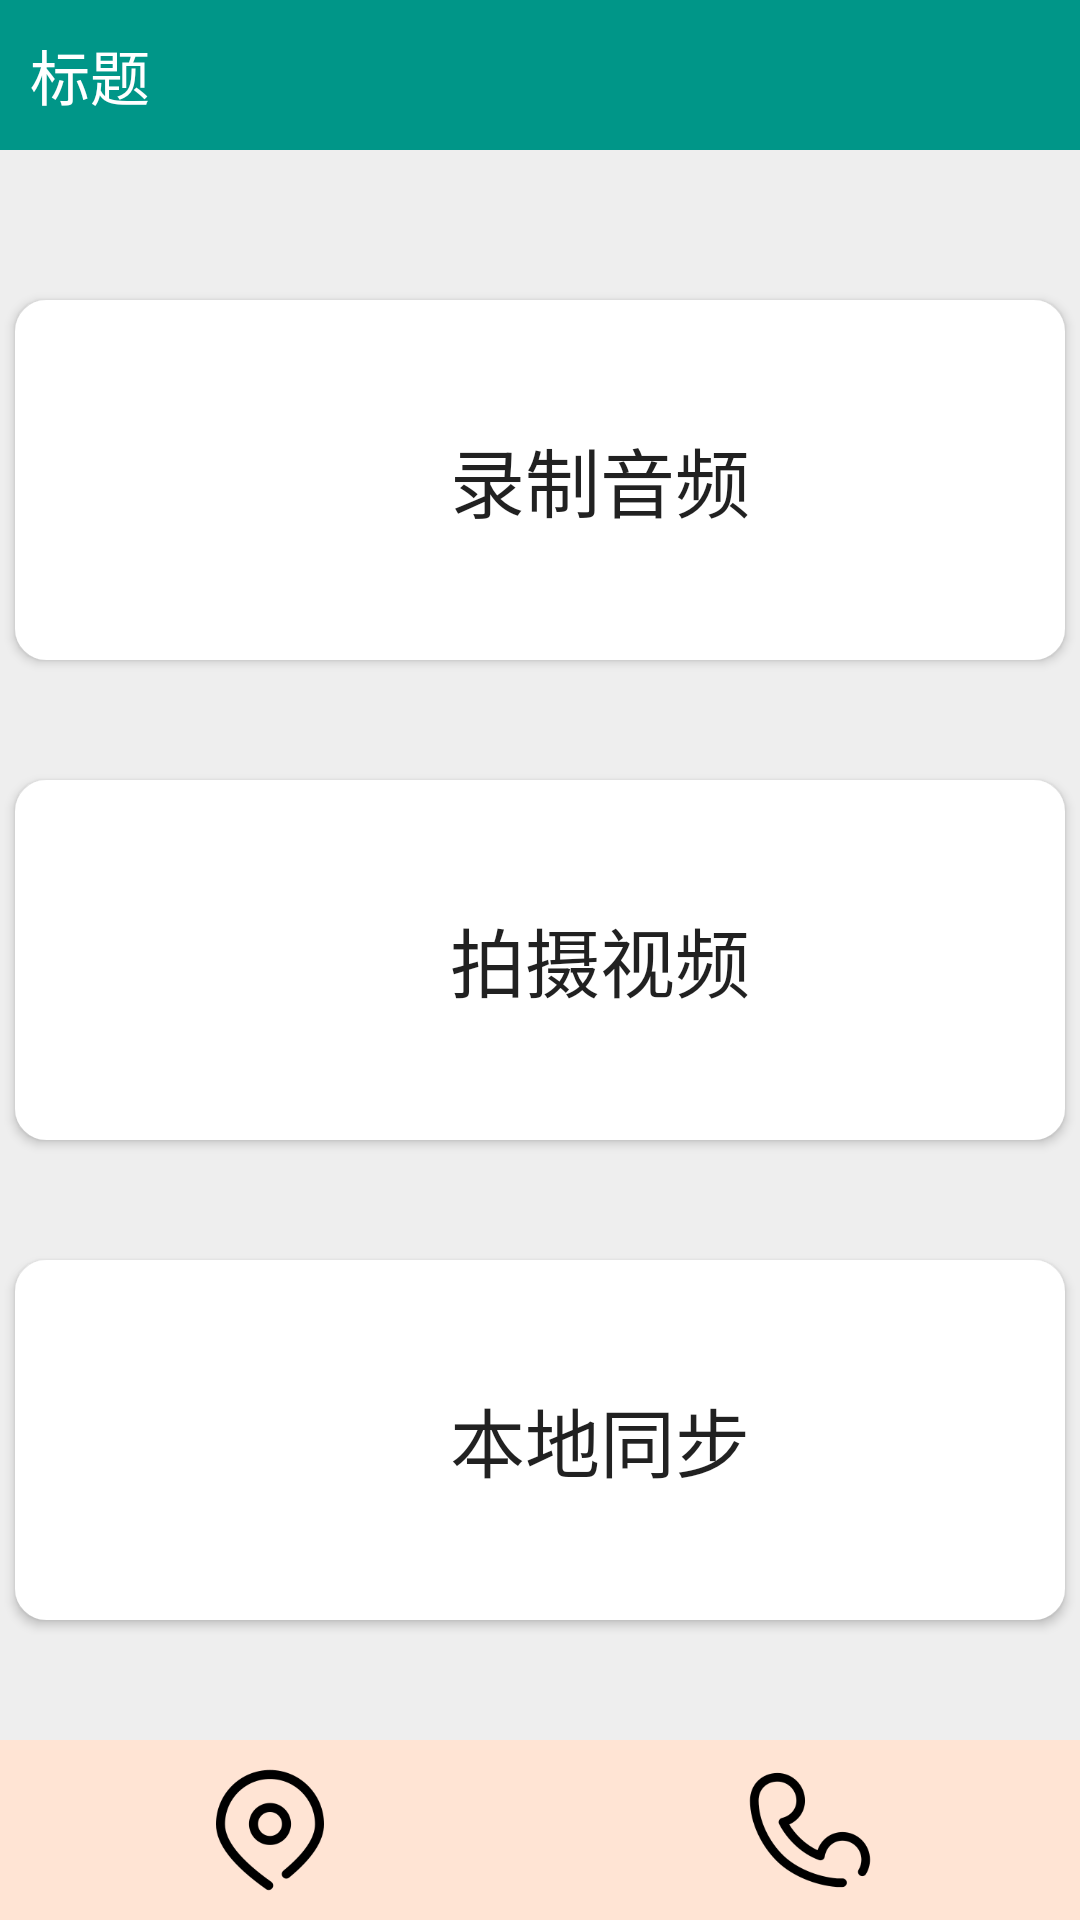

Named icons in this screenshot (1080×1920) and their centers, [x,y]:
dianhua: [810,1830]
dingwei: [270,1830]
